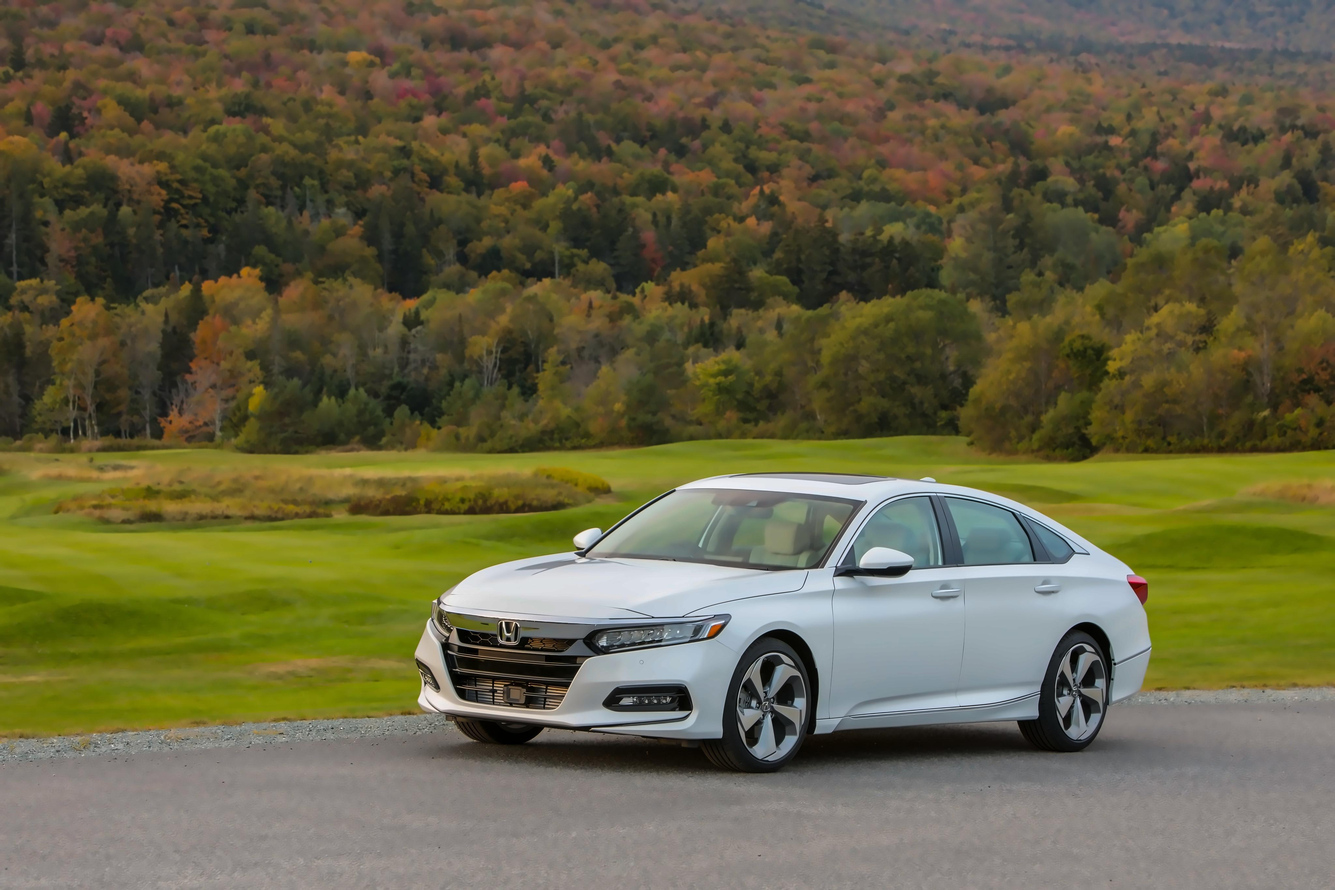Car hood: (436, 553, 810, 628)
Fender - -F-L-: (681, 559, 837, 745)
Front bumper: (401, 630, 743, 747)
Headlight - -L-: (582, 608, 735, 661)
Headlight - -R-: (423, 591, 457, 640)
Passenger-s door - -F-L-: (829, 482, 962, 720)
Passenger-s door - -R-L-: (962, 478, 1074, 718)
Rear bumper: (1105, 638, 1169, 705)
Rear light - -L-: (1120, 565, 1155, 609)
Side bumper - -L-: (810, 687, 1044, 738)
Side mirror - -L-: (852, 543, 920, 585)
Side mirror - -R-: (565, 519, 606, 555)
